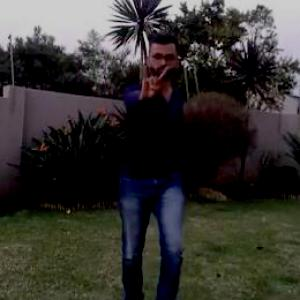takeoff-hand: (129, 60, 174, 107)
